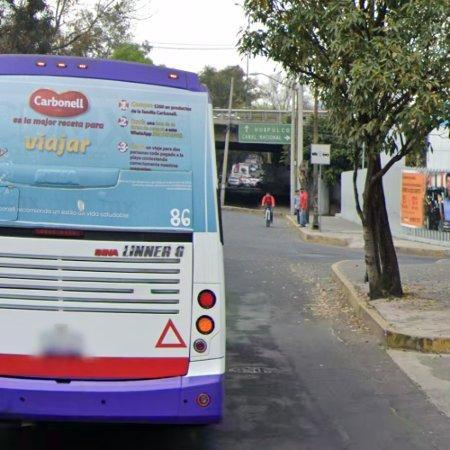buses: (0, 54, 226, 424)
